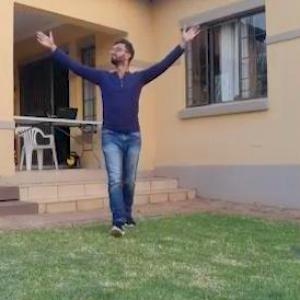takeoff: (20, 8, 221, 228)
